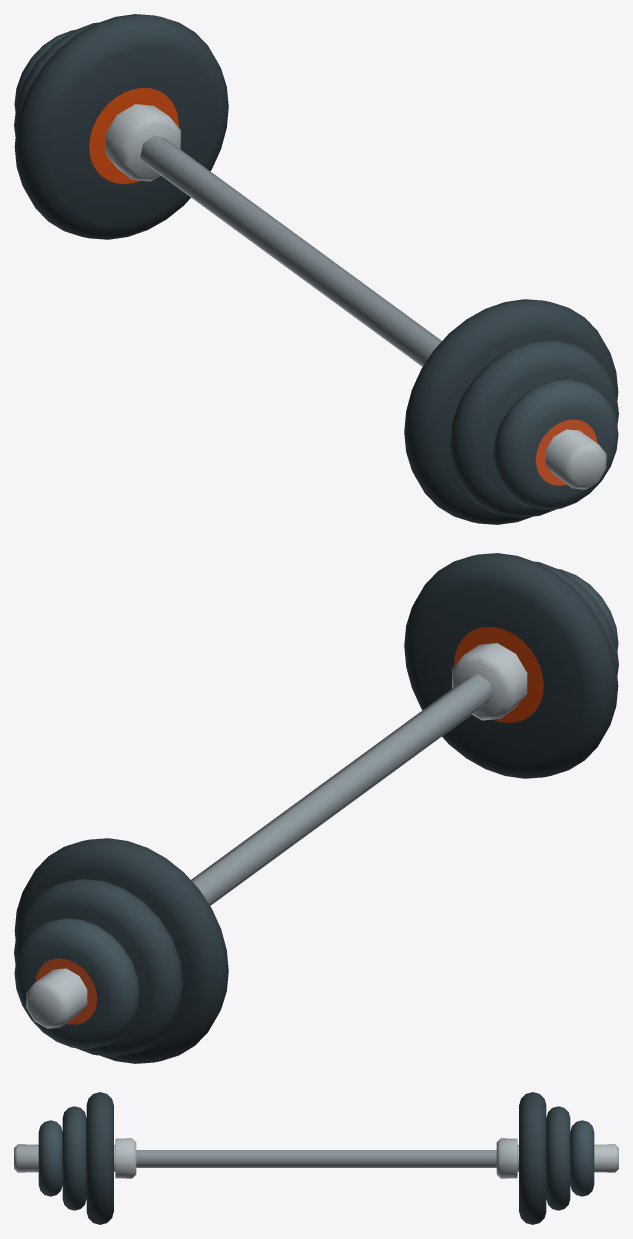
Rendered from Barbell_01.glb.
3 renders of one model, top to bottom at view 1: azimuth 30°, elevation 25°; view 2: azimuth 150°, elevation 25°; view 3: azimuth 270°, elevation 25°, orthographic. The views are drawn at different scales.
Visible parts, largest first — view 1: Barbell_01; view 2: Barbell_01; view 3: Barbell_01.
Boxes of the visible parts, x1=… form: Barbell_01: x1=14, y1=14, x2=618, y2=524; Barbell_01: x1=14, y1=553, x2=618, y2=1063; Barbell_01: x1=14, y1=1092, x2=618, y2=1224.
Size of the model in its own units: 0.378 by 0.378 by 1.72.
1 material, 1 textured.
